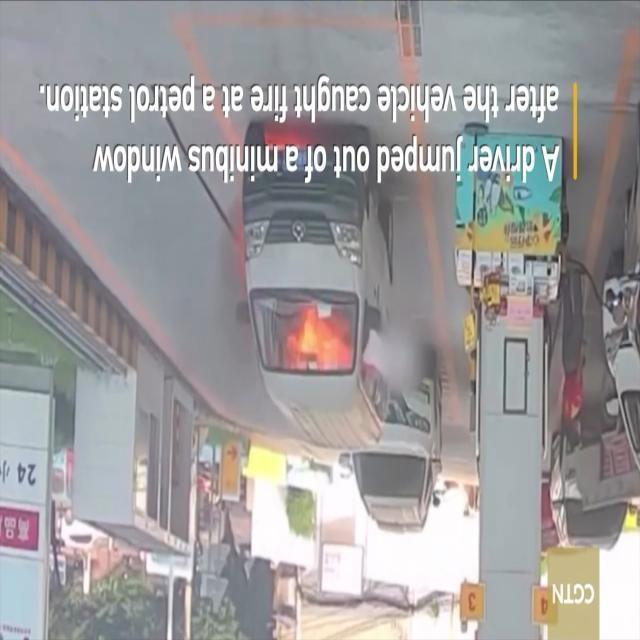fire: (284, 297, 353, 372), (258, 125, 322, 158)
